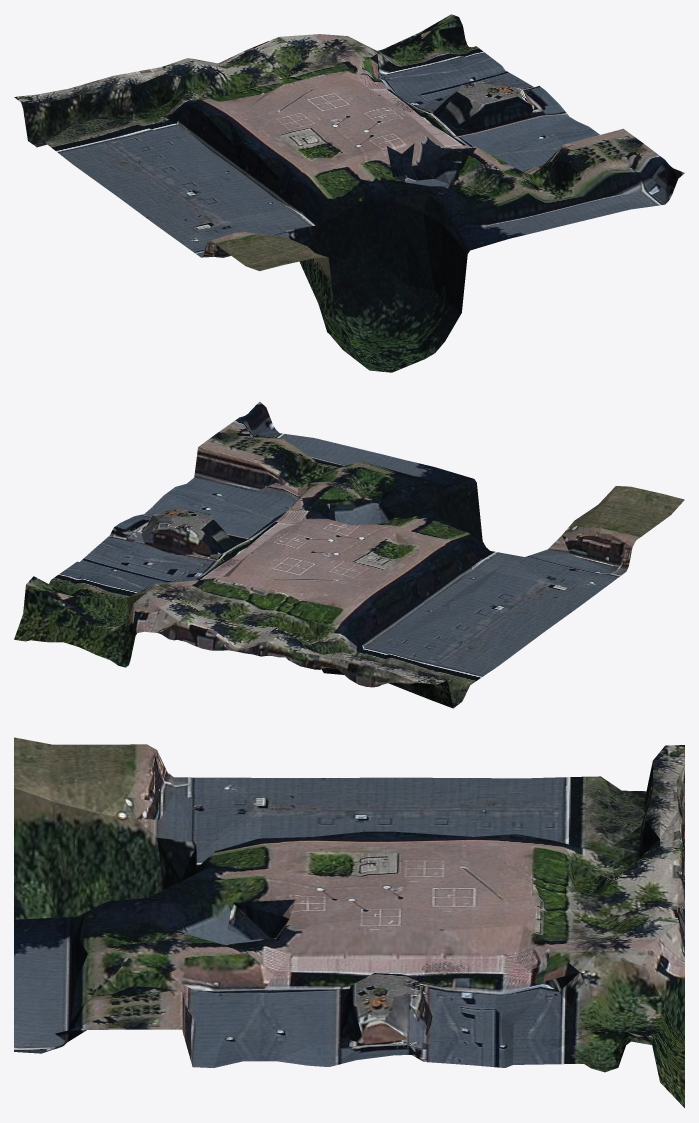
Rendered from map_15_8179_13791.dae.
The picture shows the model from 3 angles, top to bottom: view 1: azimuth 30°, elevation 25°; view 2: azimuth 150°, elevation 25°; view 3: azimuth 270°, elevation 25°; orthographic projection. The views are drawn at different scales.
Visible parts, largest first — view 1: Ter0; view 2: Ter0; view 3: Ter0.
Boxes of the visible parts, x1,y1,x2,y2 form: Ter0: (14,14,684,372); Ter0: (14,401,684,708); Ter0: (14,737,684,1107).
Size of the model in its own units: 63.87 by 63.88 by 19.25.
2 materials, 2 textured.
